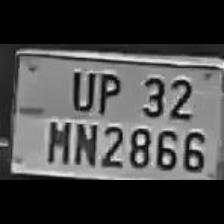2: (165, 73, 195, 121), (96, 120, 124, 170)
3: (136, 70, 166, 116)
6: (179, 126, 207, 174), (154, 124, 178, 172)
8: (125, 121, 152, 169)
M: (43, 116, 73, 164)
N: (70, 118, 96, 166)
P: (92, 68, 122, 116)
U: (65, 65, 95, 113)
